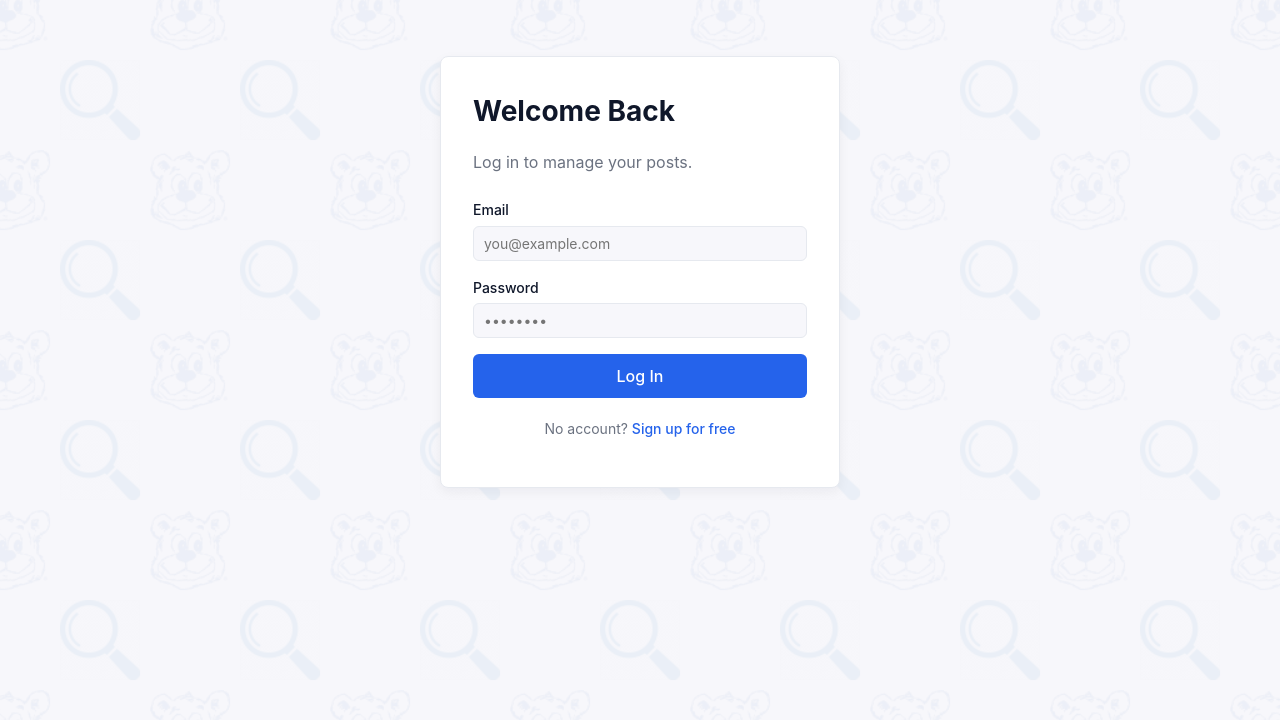
Scenario: LoginPage › submits credentials and stores token on successful login
The image size is (1280, 720).
Type "user@example.com" into the field labelled "Email" at (640, 243), box [473,226,807,261]
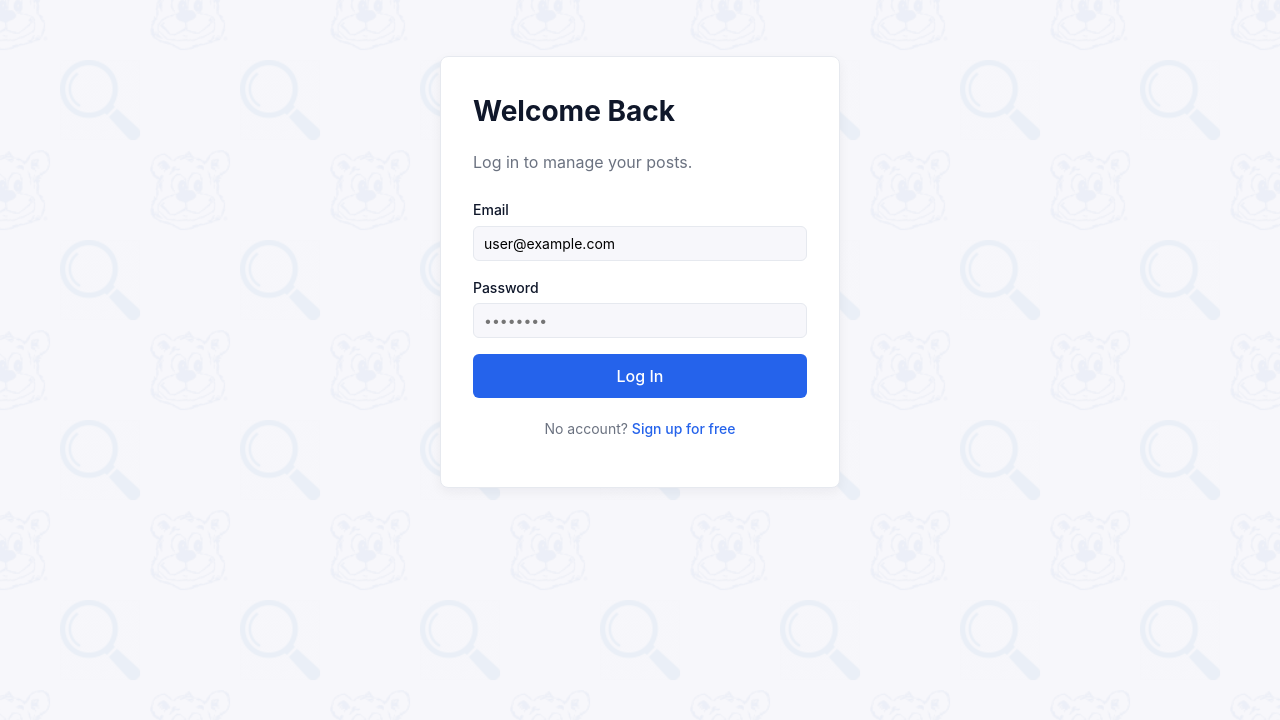
Type "StrongPass1!" into the password field labelled "Password" at (640, 321), box [473,303,807,338]
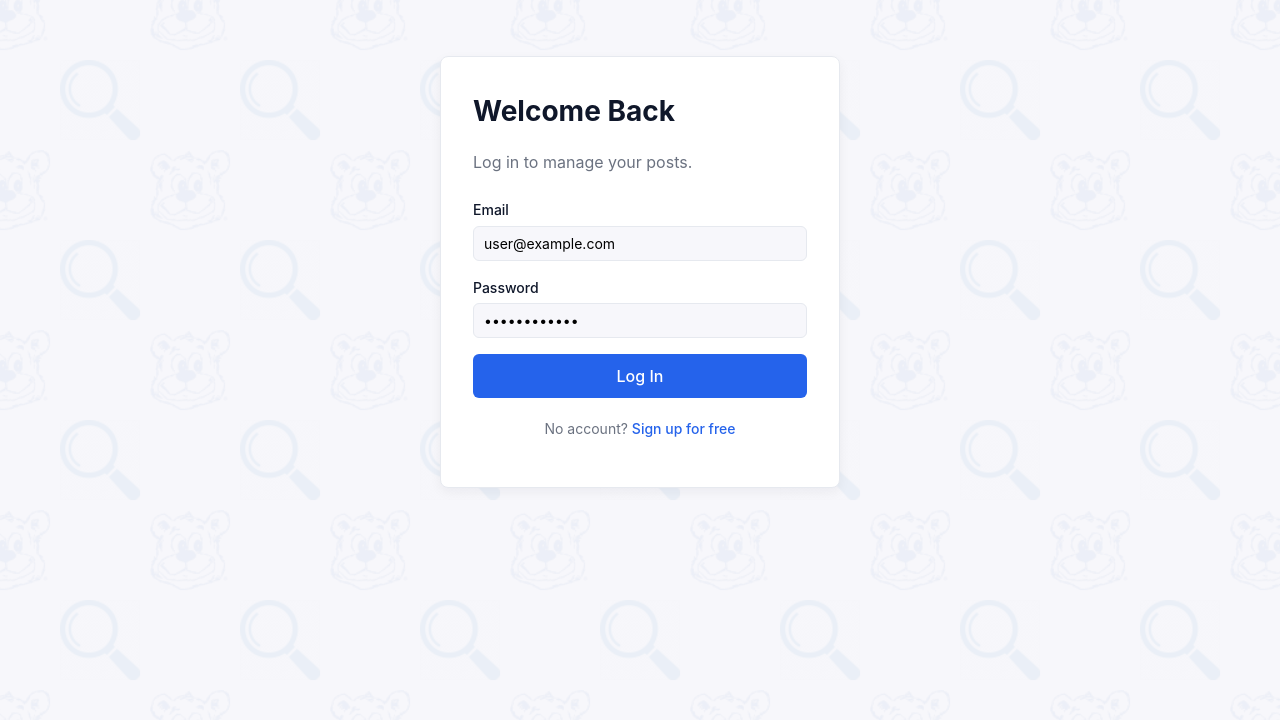
Click the button "Log In" at (640, 376), box [473,354,807,398]
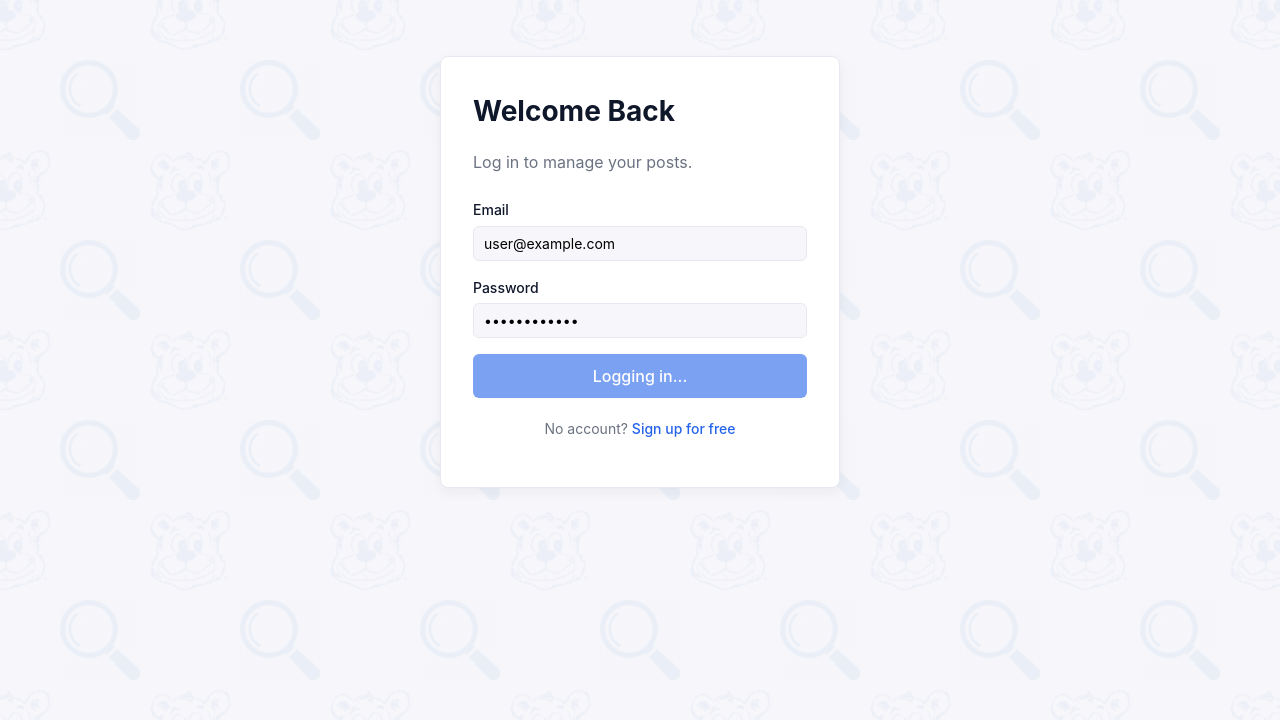
Result: the button "Logging in..." is disabled at [473,354,807,398]
